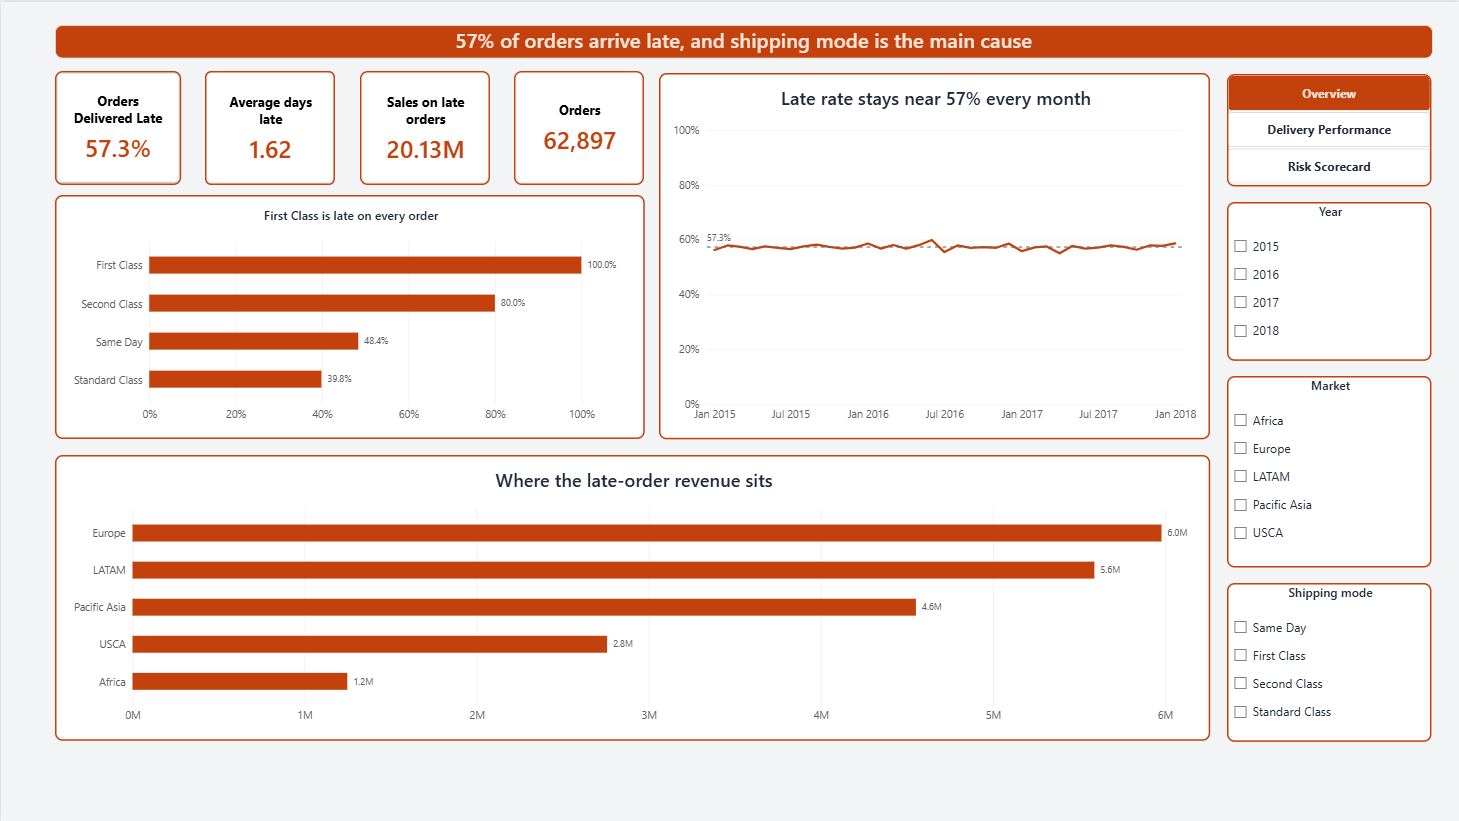

The page's visual inventory and layout, read from the dashboard file:
{"tool":"powerbi","page":{"name":"Overview","canvas":[1920,1080],"ordinal":0},"visuals":[{"type":"textbox","box":[70.8,29.9,1812.5,43.5],"z":0},{"type":"cardVisual","fields":{"Data":["_Measures.Late Rate %"]},"box":[70.8,91.2,166,149.7],"z":1000},{"type":"cardVisual","fields":{"Data":["_Measures.Avg Delay of Late Orders"]},"box":[268.5,91.2,171.5,149.7],"z":2000},{"type":"cardVisual","fields":{"Data":["_Measures.Sales on Late Orders"]},"box":[471.7,91.2,171.5,149.7],"z":3000},{"type":"cardVisual","fields":{"Data":["_Measures.Orders Display"]},"box":[674.9,91.2,171.5,149.7],"z":4000},{"type":"lineChart","title":"Late rate stays near 57% every month","fields":{"Category":["dim_date.Month Start"],"Y":["_Measures.Late Rate %"]},"box":[865.4,93.9,725.3,481.7],"z":5000},{"type":"clusteredBarChart","title":"First Class is late on every order","fields":{"Category":["dim_shipping_mode.shipping_mode"],"Y":["_Measures.Late Rate %"]},"box":[70.8,254.5,775.6,321.1],"z":6000},{"type":"clusteredBarChart","title":"Where the late-order revenue sits","fields":{"Category":["dim_region.market"],"Y":["_Measures.Sales on Late Orders"]},"box":[70.8,596,1519.9,375.6],"z":7000},{"type":"slicer","title":"Year","fields":{"Values":["dim_date.Year"]},"box":[1613.4,263.2,268.8,208.5],"z":8000},{"type":"slicer","title":"Market","fields":{"Values":["dim_region.market"]},"box":[1613.4,492.2,268.8,251.8],"z":9000},{"type":"slicer","title":"Shipping mode","fields":{"Values":["dim_shipping_mode.shipping_mode"]},"box":[1613.4,764.4,268.8,208.5],"z":10000},{"type":"pageNavigator","box":[1613.4,94.3,269.1,148.4],"z":11000}]}

Visuals, with their boxes in screenshot pixels (x1, y1, x2, y2), scaled from the page's 1920x1080 canvas onto the 1459x821 screenshot:
textbox: crop(54, 23, 1431, 56)
cardVisual - _Measures.Late Rate %: crop(54, 69, 180, 183)
cardVisual - _Measures.Avg Delay of Late Orders: crop(204, 69, 334, 183)
cardVisual - _Measures.Sales on Late Orders: crop(358, 69, 489, 183)
cardVisual - _Measures.Orders Display: crop(513, 69, 643, 183)
"Late rate stays near 57% every month" lineChart: crop(658, 71, 1209, 438)
"First Class is late on every order" clusteredBarChart: crop(54, 193, 643, 438)
"Where the late-order revenue sits" clusteredBarChart: crop(54, 453, 1209, 739)
"Year" slicer: crop(1226, 200, 1430, 359)
"Market" slicer: crop(1226, 374, 1430, 566)
"Shipping mode" slicer: crop(1226, 581, 1430, 740)
pageNavigator: crop(1226, 72, 1431, 184)
